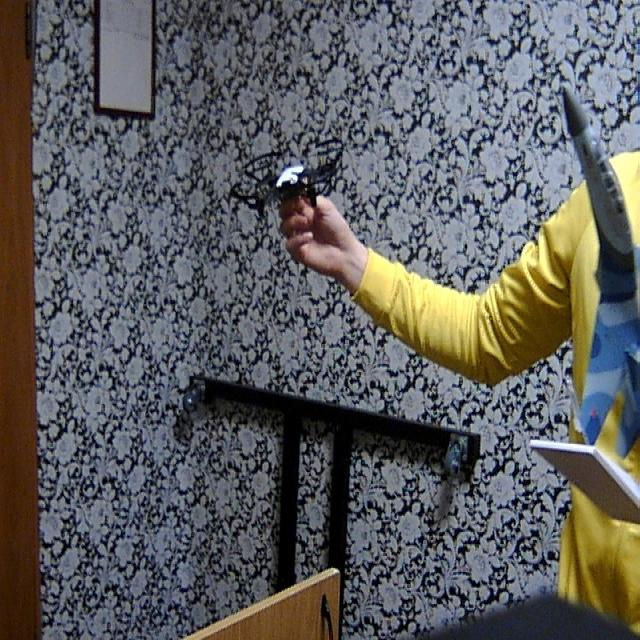drone: (224, 126, 360, 222)
